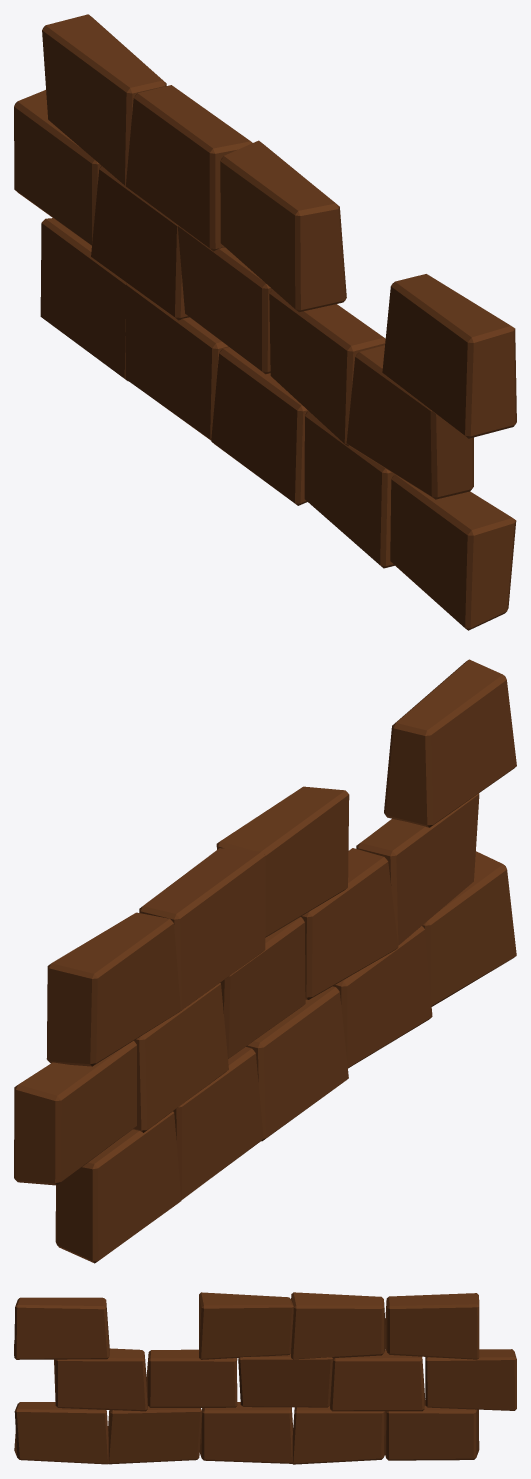
File: BrickWall-RedBrick-Low.fbx
3 views of the same model, one above another, from view 1: azimuth 30°, elevation 25°; view 2: azimuth 150°, elevation 25°; view 3: azimuth 270°, elevation 25° (orthographic). The views are drawn at different scales.
Parts seen in each view (by area): view 1: RedBrick Low Wall; view 2: RedBrick Low Wall; view 3: RedBrick Low Wall.
Boxes of the visible parts, bbox=[...] form: RedBrick Low Wall: bbox=[14, 14, 516, 630]; RedBrick Low Wall: bbox=[14, 659, 516, 1263]; RedBrick Low Wall: bbox=[14, 1292, 516, 1464].
Size of the model in its own units: 57.16 by 306 by 872.
